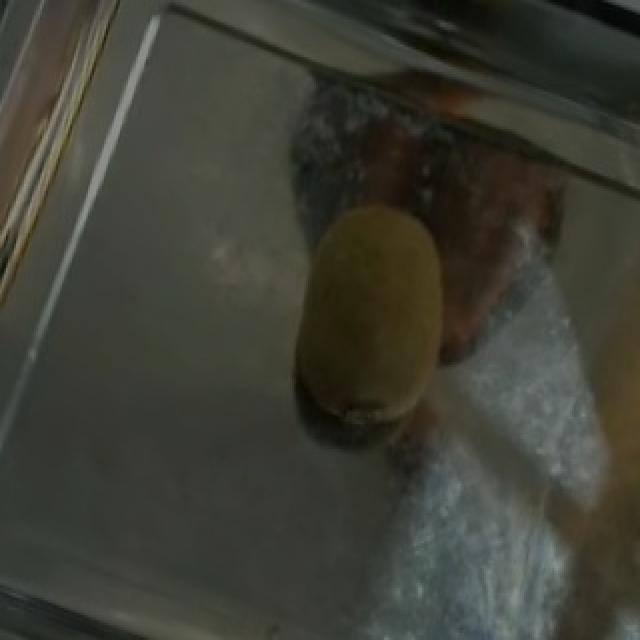Fruit: (252, 169, 496, 471)
